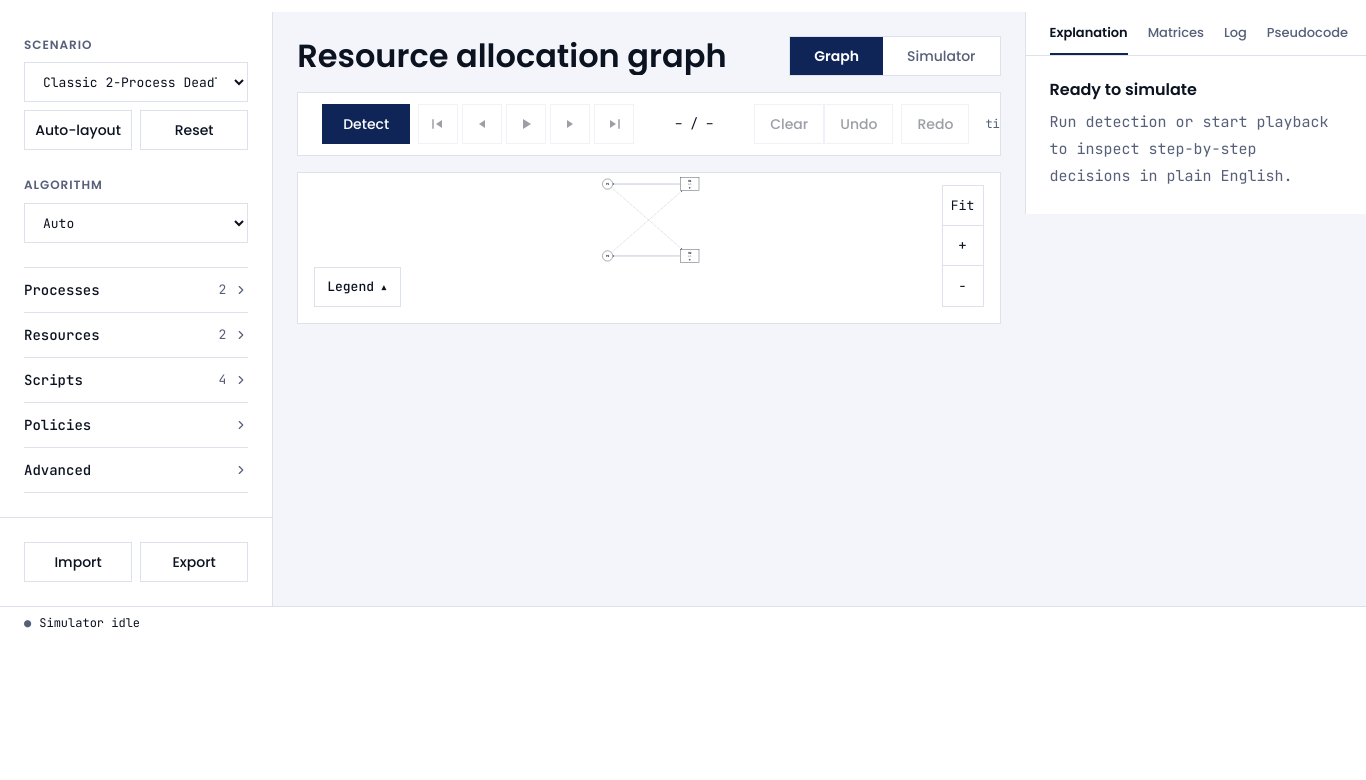
it: Workspace switch › switches between the graph and the simulator workspaces
Expected: the button with test id "detect-button" is shown, x1=322 y1=104 x2=410 y2=144
Click the tab with test id "workspace-simulate". click: (941, 56)
box: x1=883 y1=37 x2=1000 y2=75
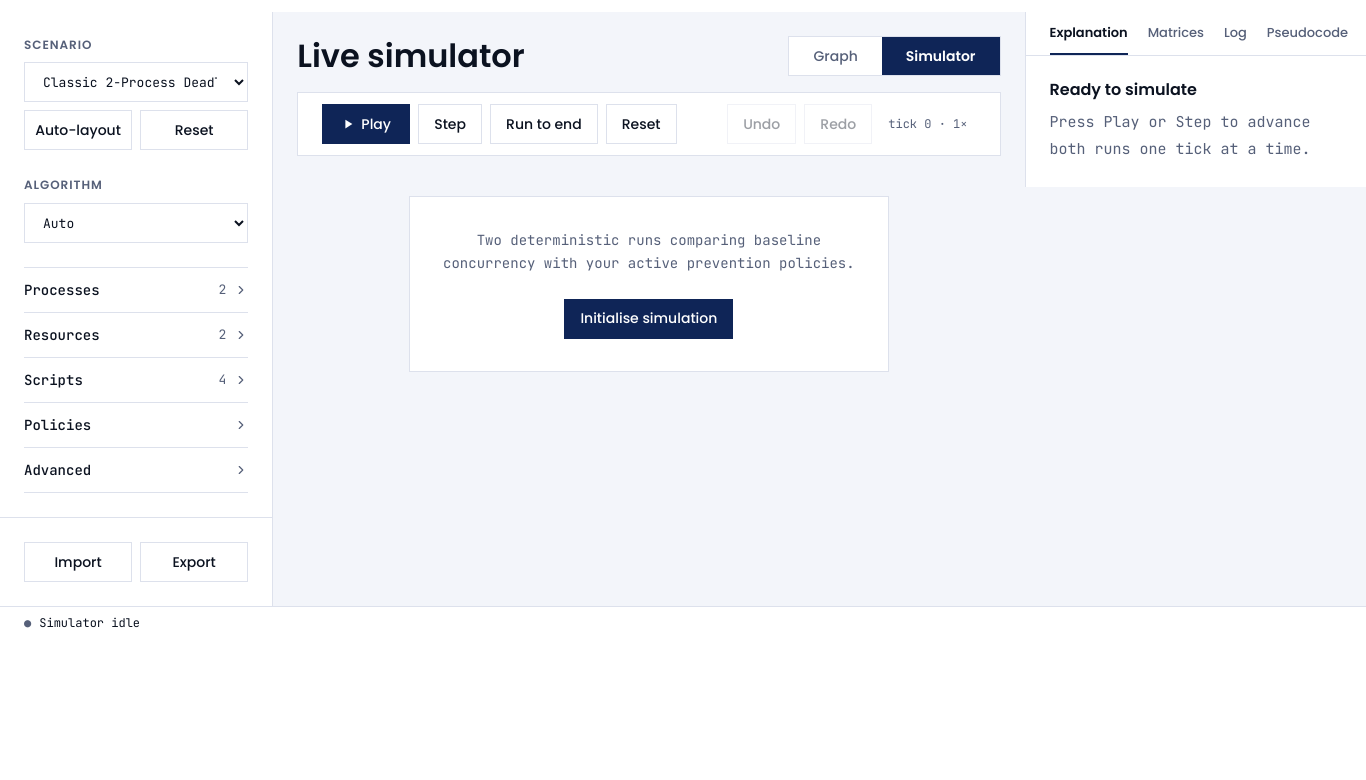
Expected: the heading "Live simulator" is shown, x1=297 y1=37 x2=525 y2=75
Expected: the button with test id "init-simulator" is shown, x1=564 y1=298 x2=733 y2=338
Click the tab with test id "workspace-graph". click: (836, 56)
box: x1=790 y1=37 x2=882 y2=75
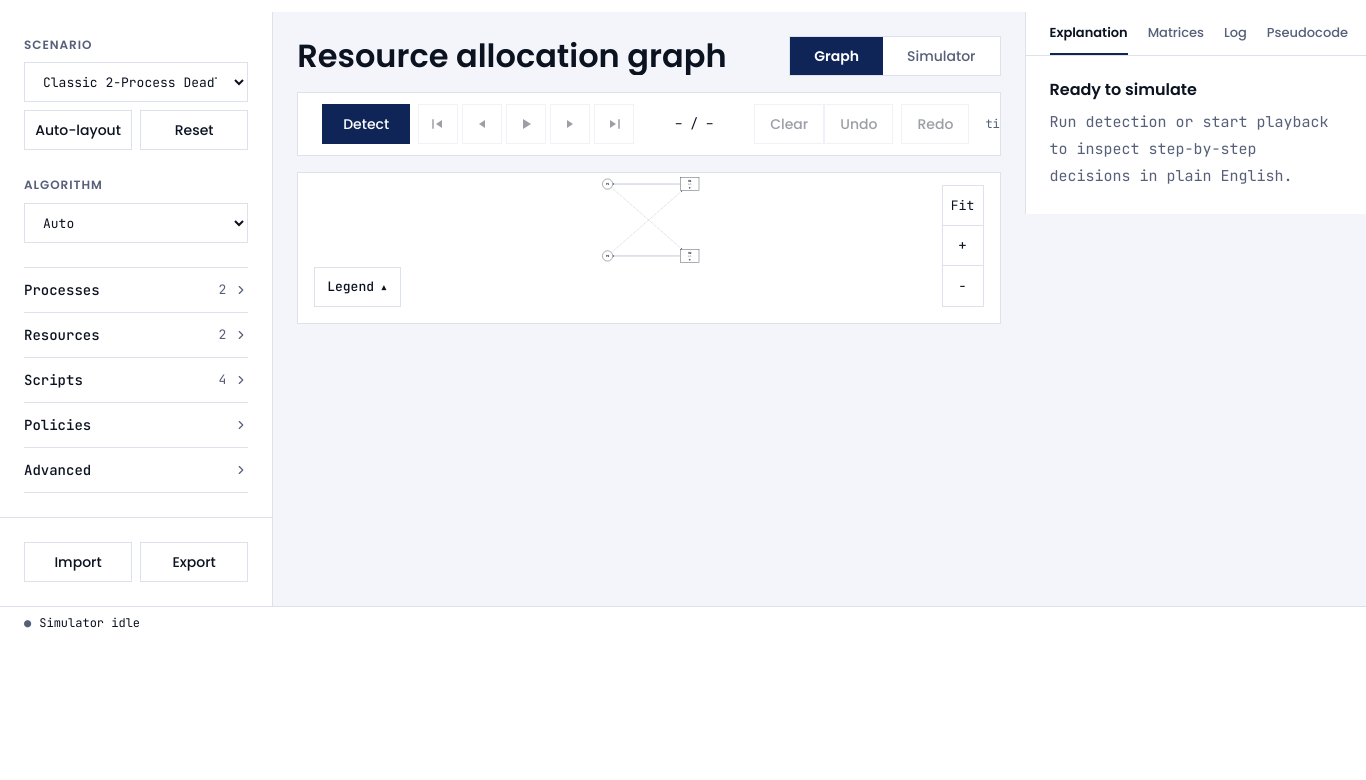
Expected: the button with test id "detect-button" is shown, x1=322 y1=104 x2=410 y2=144
